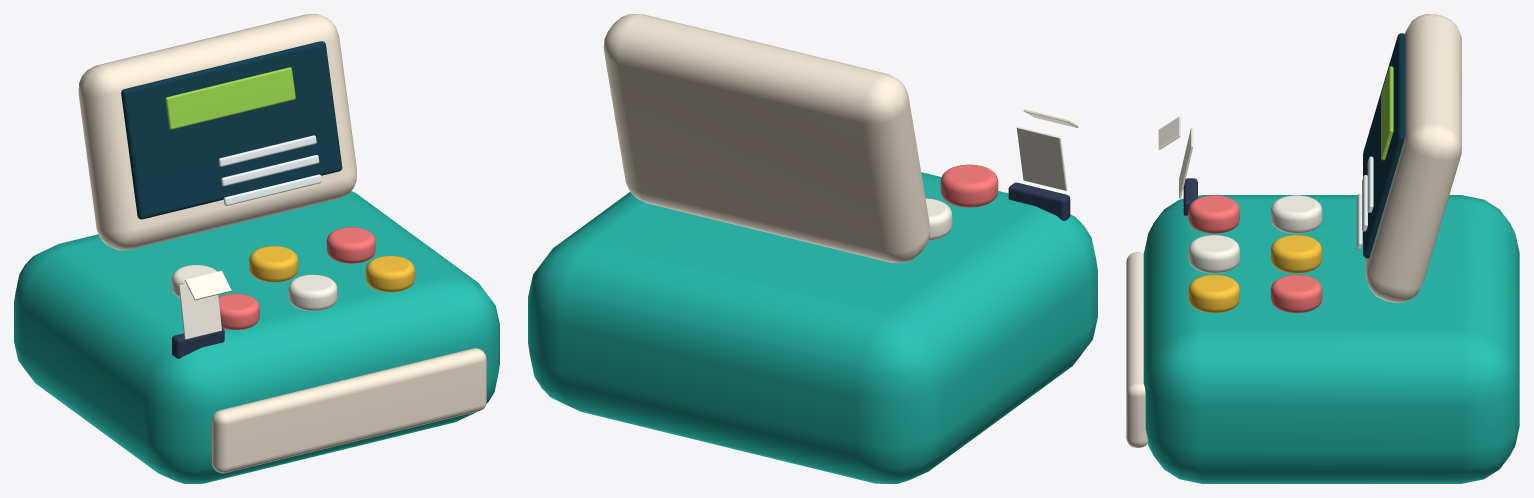
File: CounterTill.fbx
3 renders of one model, left to right at view 1: azimuth 30°, elevation 25°; view 2: azimuth 150°, elevation 25°; view 3: azimuth 270°, elevation 25°, orthographic. The views are drawn at different scales.
Visible parts, largest first — view 1: CounterTill mesh; view 2: CounterTill mesh; view 3: CounterTill mesh.
Boxes of the visible parts, x1,y1,x2,y2 form: CounterTill mesh: (14,14,499,483); CounterTill mesh: (528,14,1097,483); CounterTill mesh: (1126,14,1519,483).
Size of the model in its own units: 0.36 by 0.3233 by 0.335.
